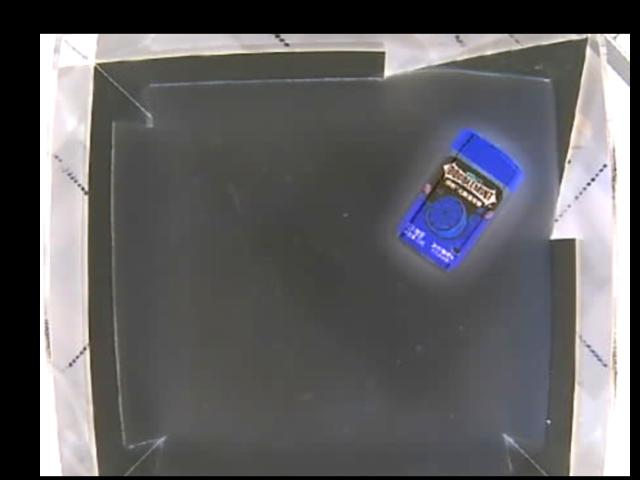Bottle: (390, 129, 524, 277)
